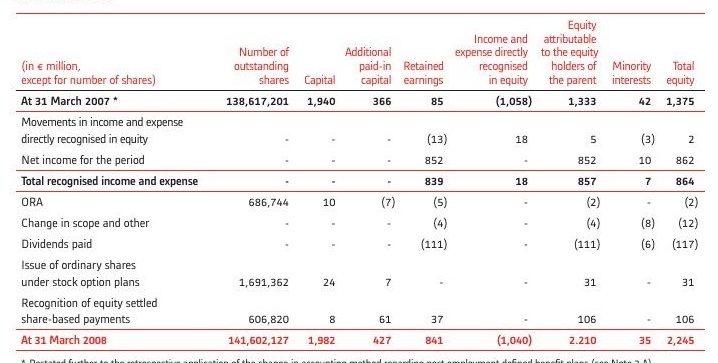table: (0, 0, 718, 363)
